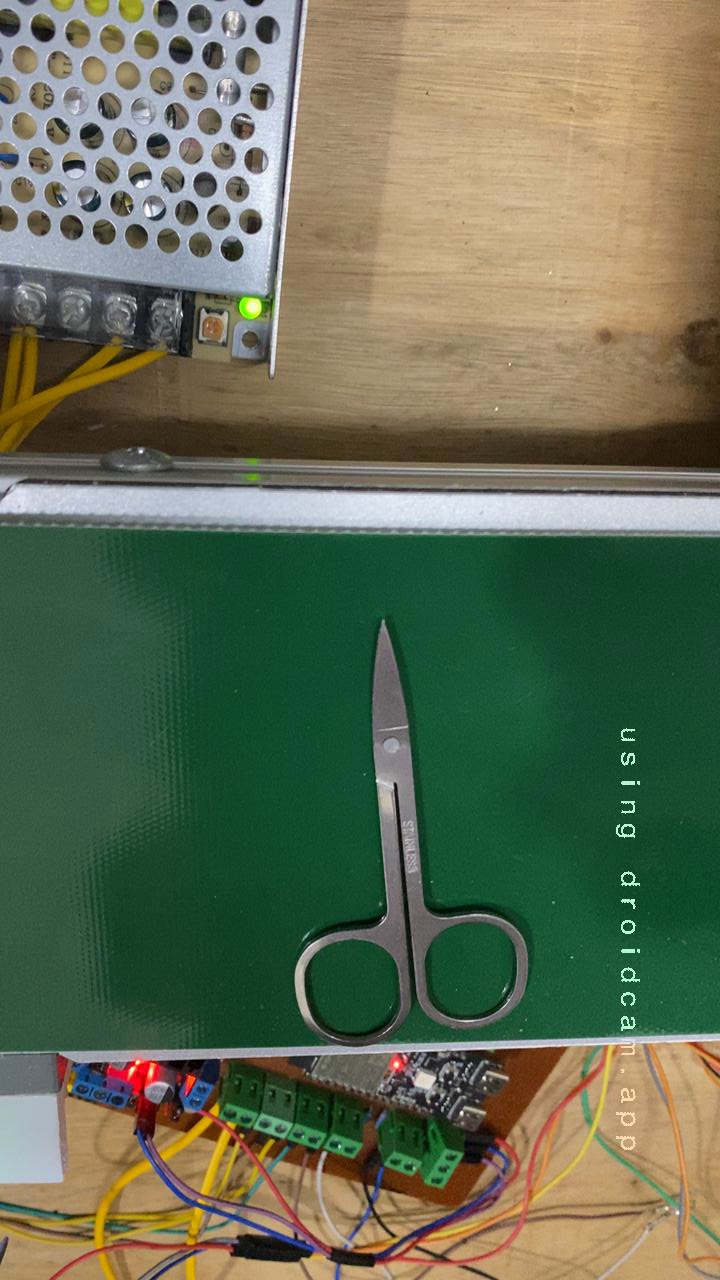scissor: (240, 596, 551, 1063)
